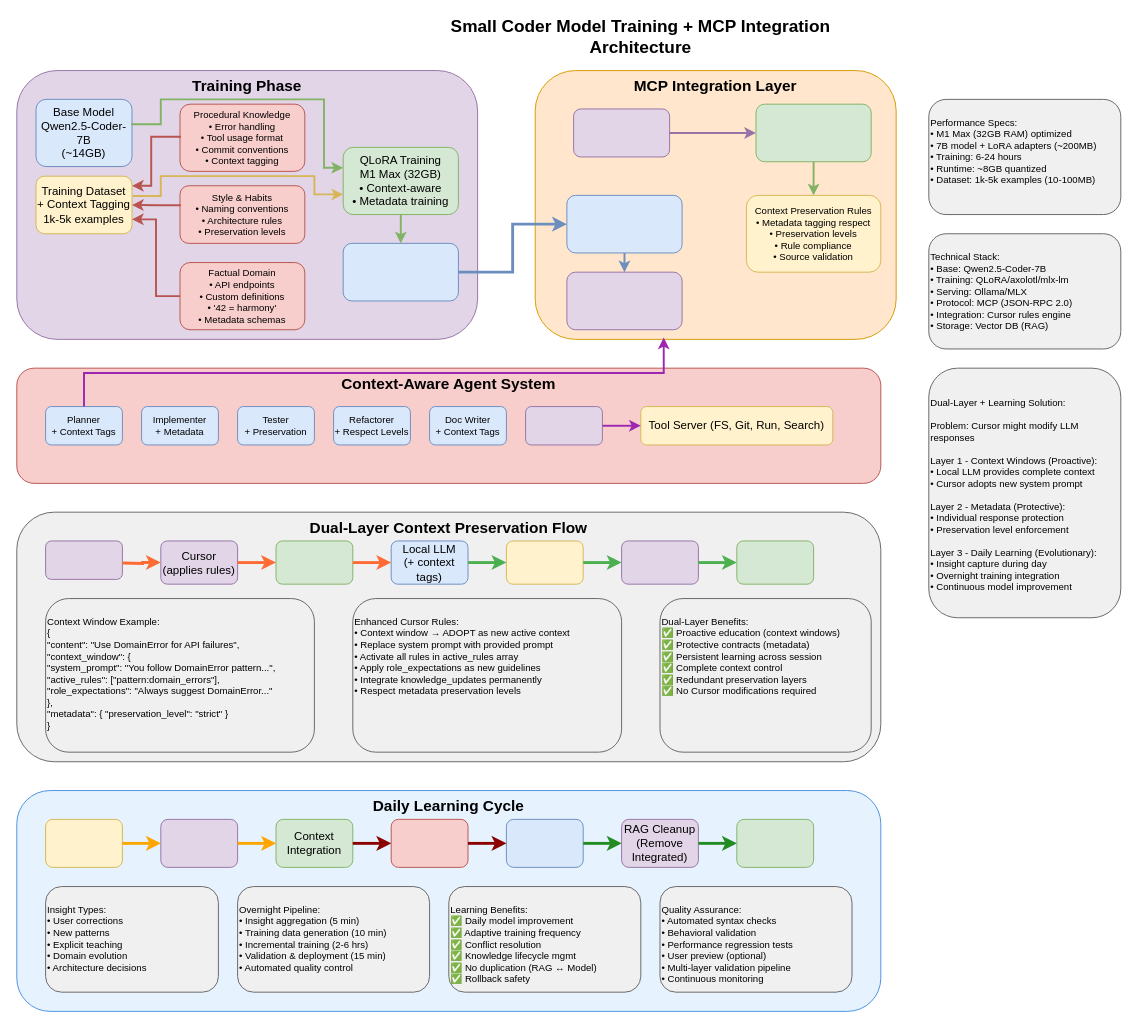
This 1138x1028 diagram has some shape labels left out. Each missing label, with the centre of its shape:
Cursor (adopts context): point (659, 562)
Cursor IDE + Rules Engine: point (621, 132)
Final Output (preserved): point (775, 562)
Fine-tuned Model + Context Awareness (Quantized GGUF): point (400, 271)
Insight Capture (Day): point (83, 842)
Local LLM Server Ollama / MLX + Fine-tuned Model: point (624, 223)
MCP Server (relay): point (314, 562)
MCP Server Context Preservation Protocol: point (813, 132)
Model Update (Permanent): point (544, 842)
Next Day (Smarter Model): point (775, 842)
Overnight Training: point (429, 842)
RAG Storage (Temporary): point (199, 842)
RAG System (Vector Database) Dynamic Knowledge: point (624, 300)
Response (context + metadata): point (544, 562)
Reviewer + Validation: point (563, 425)
User Request: point (83, 559)
